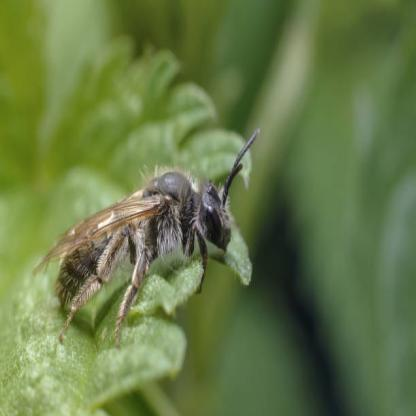sawfly: (30, 124, 264, 350)
